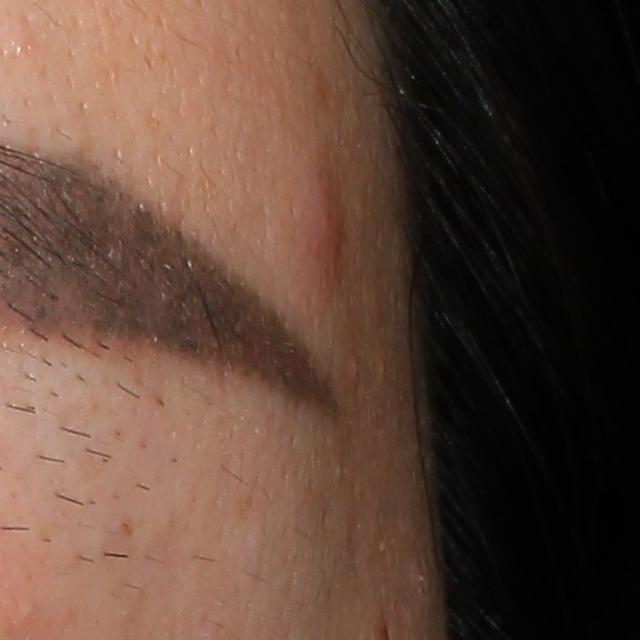papule: (294, 187, 345, 261)
